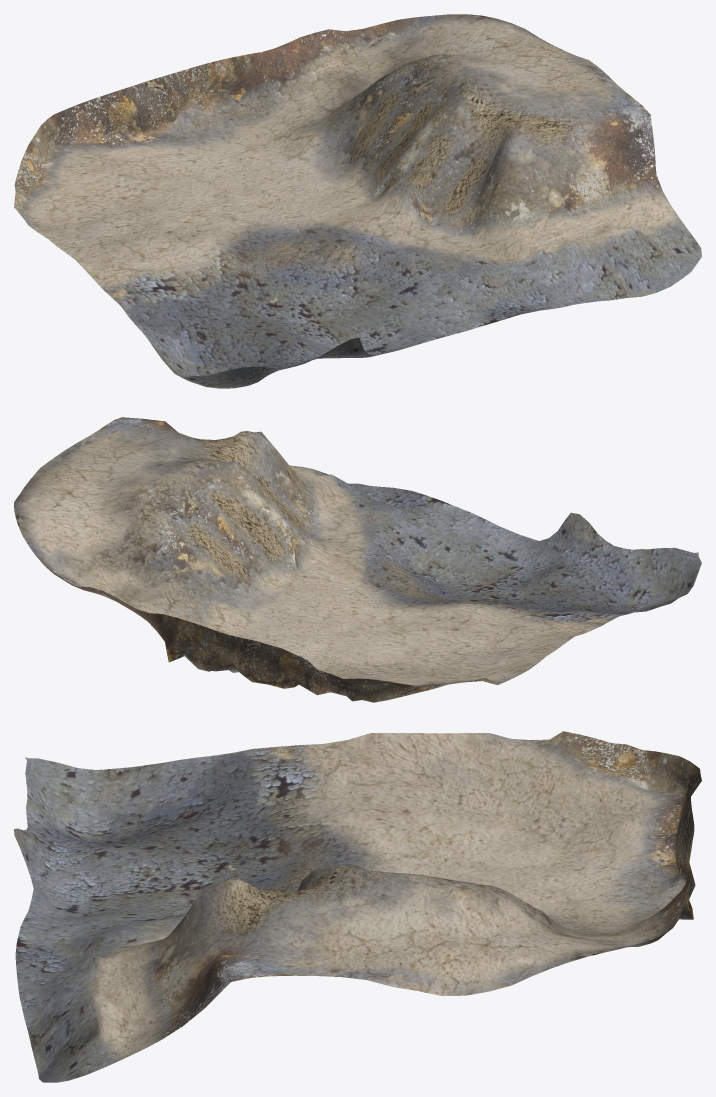
The model's file is bujama-2.gltf.
3 renders of one model, top to bottom at view 1: azimuth 30°, elevation 25°; view 2: azimuth 150°, elevation 25°; view 3: azimuth 270°, elevation 25°, orthographic. The views are drawn at different scales.
Parts seen in each view (by area): view 1: Plane; view 2: Plane; view 3: Plane.
Part boxes in pixels (<box>): Plane: <box>14,14,701,388</box>; Plane: <box>14,417,701,702</box>; Plane: <box>14,731,701,1082</box>.
Bounding box in the file's own units: 72.21 × 18.08 × 62.58.
Materials: 1 (1 with a texture image).
